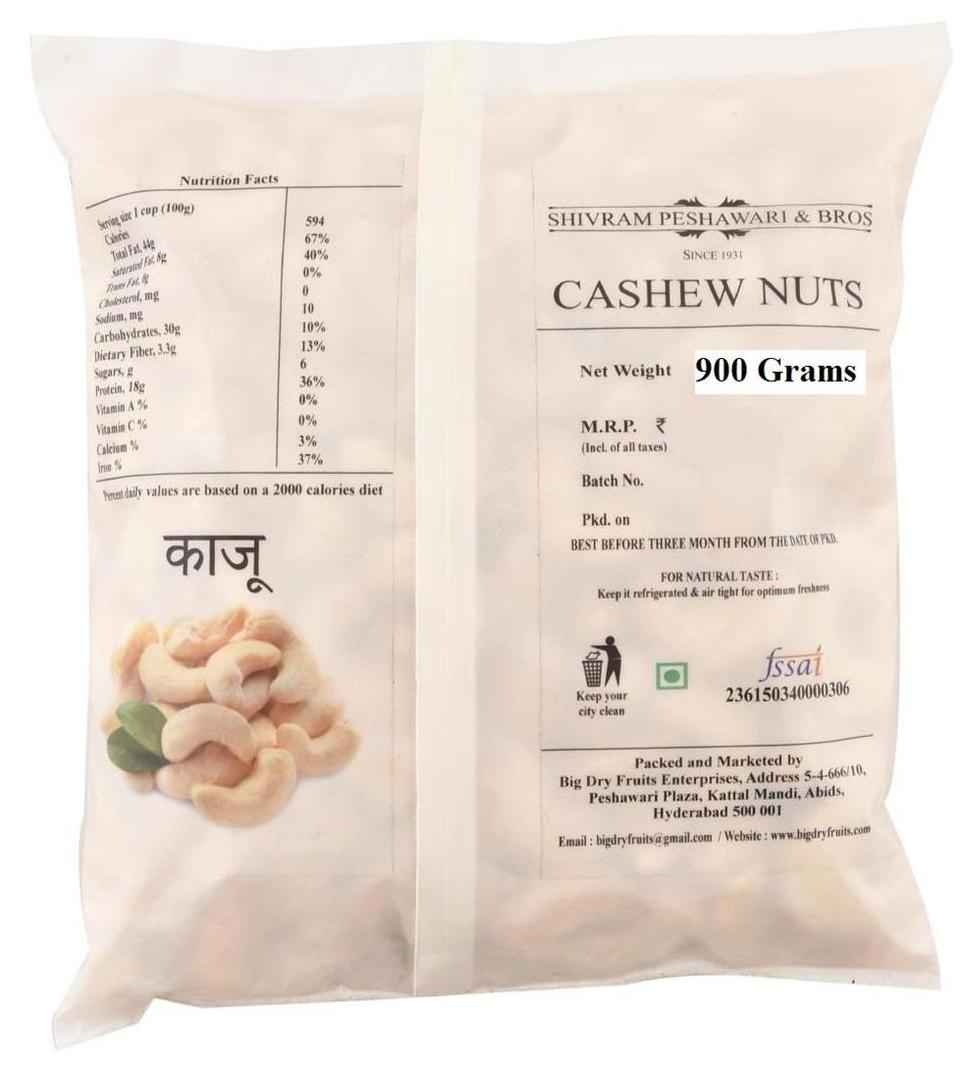fssai: (754, 642, 829, 684)
